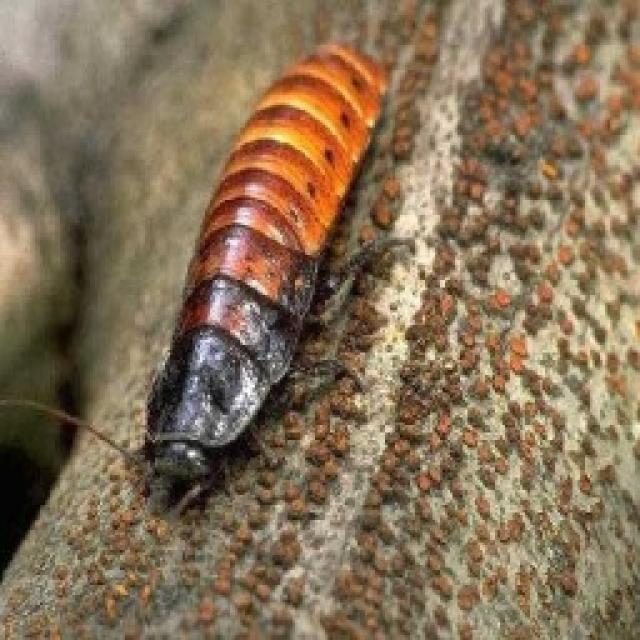cockroach: (91, 26, 417, 514)
